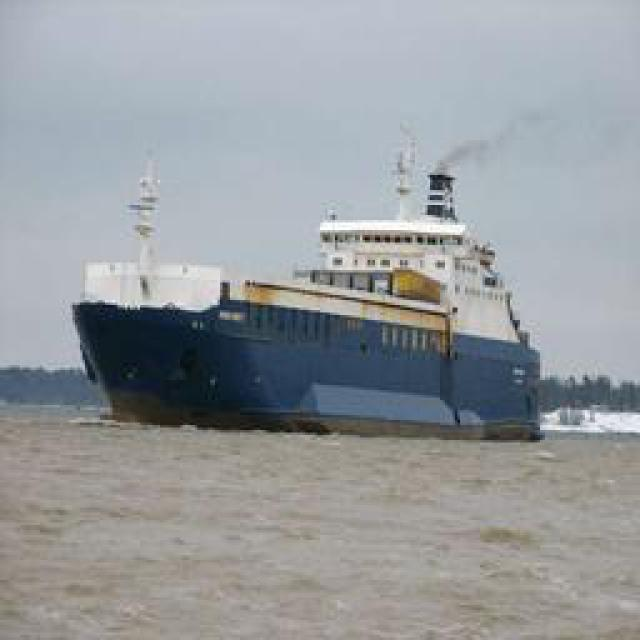Ship: (76, 141, 541, 426)
